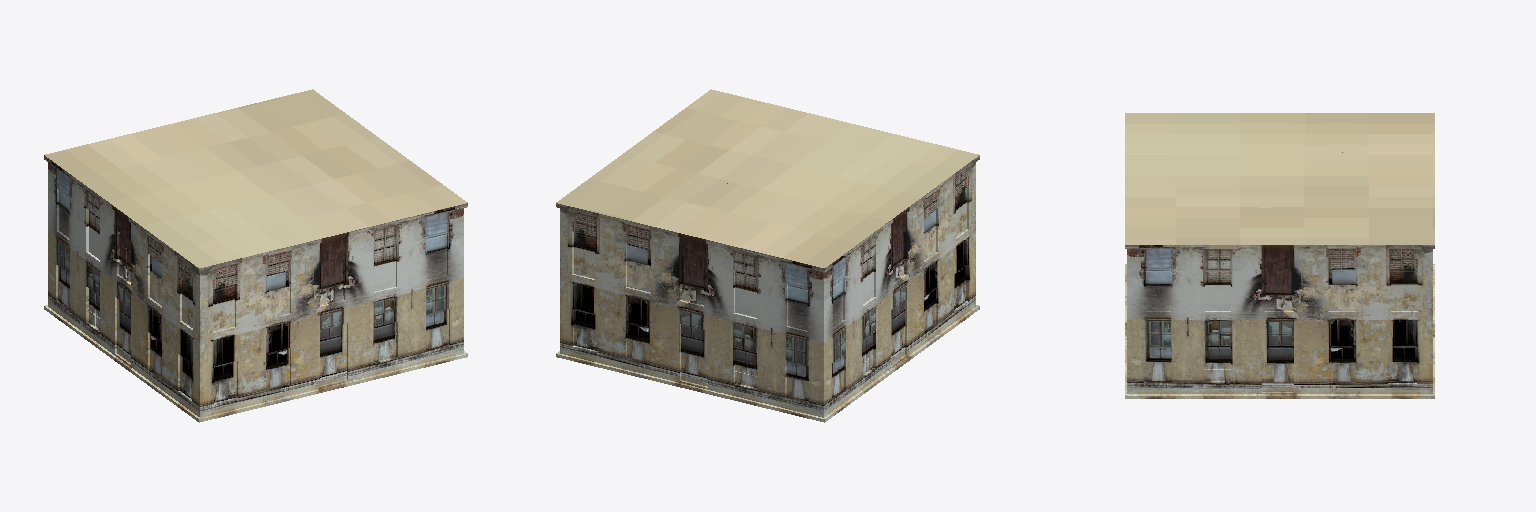
3 views of the same model, side by side, from view 1: azimuth 30°, elevation 25°; view 2: azimuth 150°, elevation 25°; view 3: azimuth 270°, elevation 25° (orthographic).
Visible parts, largest first — view 1: Plane01; view 2: Plane01; view 3: Plane01.
Boxes of the visible parts, x1,y1,x2,y2 form: Plane01: [44, 89, 467, 422]; Plane01: [556, 89, 979, 422]; Plane01: [1125, 113, 1434, 398].
Size of the model in its own units: 1179 by 646 by 1179.
2 materials, 1 textured.